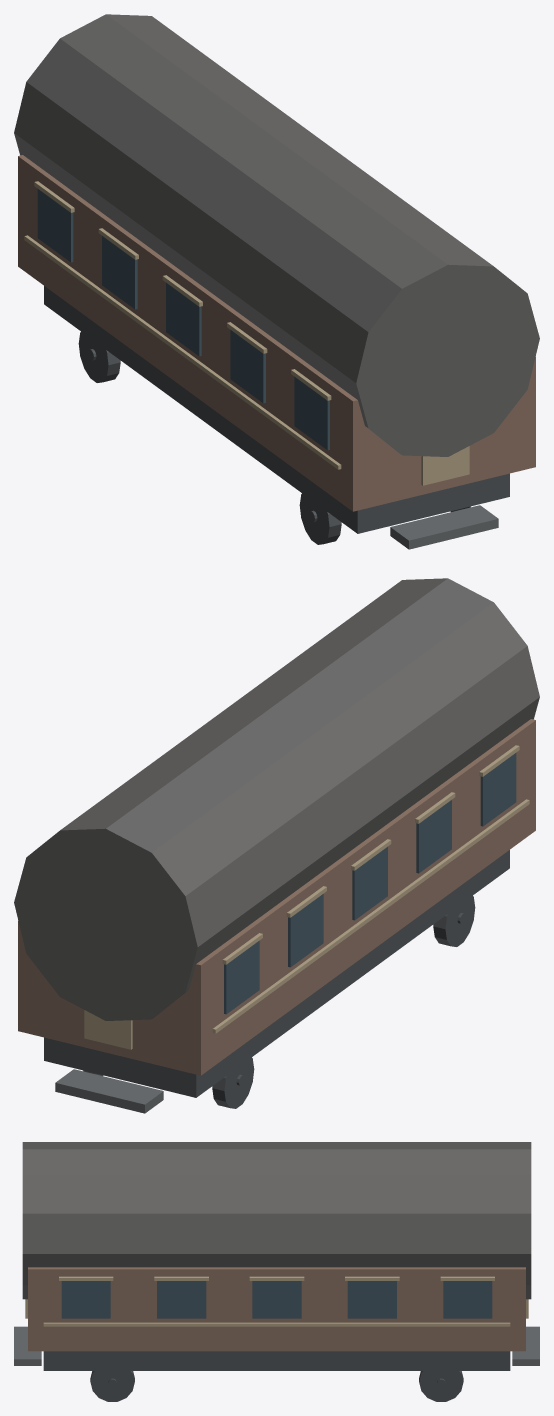
The model's file is victorian_4wheel_coach.glb.
3 views of the same model, one above another, from view 1: azimuth 30°, elevation 25°; view 2: azimuth 150°, elevation 25°; view 3: azimuth 270°, elevation 25° (orthographic). The views are drawn at different scales.
Parts seen in each view (by area): view 1: coach_roof, coach_body, underframe, end_step_4.042, waistline_L, window_L_0, window_L_1, window_L_2, window_L_4, window_L_3, wheel_coach_L_1, wheel_coach_L_0 (+1 smaller); view 2: coach_roof, coach_body, underframe, end_step_-4.042, waistline_L, window_L_4, window_L_2, window_L_3, window_L_0, window_L_1, wheel_coach_L_0, wheel_coach_L_1 (+1 smaller); view 3: coach_roof, coach_body, underframe, waistline_R, window_R_0, window_R_1, window_R_2, window_R_3, window_R_4, wheel_coach_R_0, wheel_coach_R_1, end_step_-4.042 (+1 smaller).
Boxes of the visible parts, <box> form: coach_roof: <box>14,14,539,456</box>; coach_body: <box>18,155,535,511</box>; underframe: <box>44,286,509,533</box>; end_step_4.042: <box>390,505,498,549</box>; waistline_L: <box>24,235,341,469</box>; window_L_0: <box>37,189,73,262</box>; window_L_1: <box>102,236,137,309</box>; window_L_2: <box>166,282,201,356</box>; window_L_4: <box>294,376,329,450</box>; window_L_3: <box>230,330,265,403</box>; wheel_coach_L_1: <box>299,493,341,544</box>; wheel_coach_L_0: <box>78,331,120,382</box>; coach_roof: <box>14,578,539,1020</box>; coach_body: <box>18,719,535,1075</box>; underframe: <box>44,850,509,1097</box>; end_step_-4.042: <box>55,1069,163,1113</box>; waistline_L: <box>212,799,529,1033</box>; window_L_4: <box>480,753,516,826</box>; window_L_2: <box>352,846,387,920</box>; window_L_3: <box>416,800,451,873</box>; window_L_0: <box>224,940,259,1014</box>; window_L_1: <box>288,894,323,967</box>; wheel_coach_L_0: <box>212,1057,254,1108</box>; wheel_coach_L_1: <box>433,895,475,946</box>; coach_roof: <box>22,1142,531,1299</box>; coach_body: <box>28,1267,525,1351</box>; underframe: <box>43,1351,510,1370</box>; waistline_R: <box>43,1322,510,1326</box>; window_R_0: <box>443,1281,492,1318</box>; window_R_1: <box>347,1281,396,1318</box>; window_R_2: <box>252,1281,301,1318</box>; window_R_3: <box>157,1281,206,1318</box>; window_R_4: <box>61,1281,110,1318</box>; wheel_coach_R_0: <box>419,1371,463,1401</box>; wheel_coach_R_1: <box>90,1371,134,1401</box>; end_step_-4.042: <box>512,1326,539,1365</box>.
Bounding box in the file's own units: 2.67 × 4.05 × 8.53.
